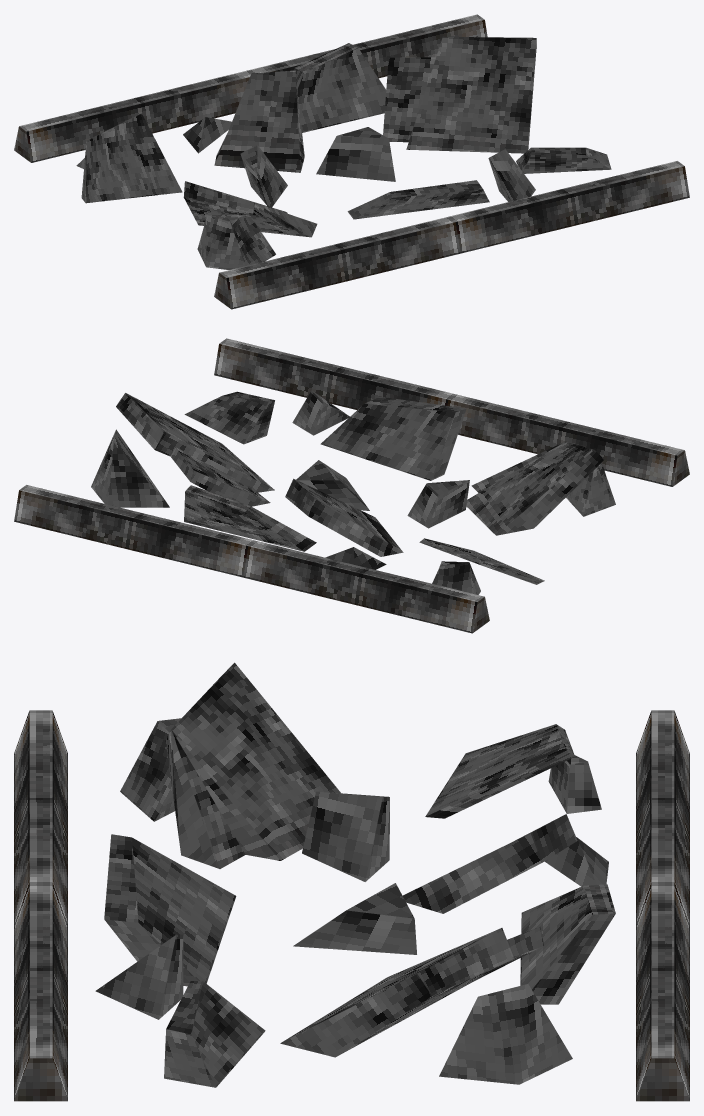
The model's file is bridge_dam.glb.
3 views of the same model, one above another, from view 1: azimuth 30°, elevation 25°; view 2: azimuth 150°, elevation 25°; view 3: azimuth 270°, elevation 25° (orthographic). The views are drawn at different scales.
Visible parts, largest first — view 1: Object01; view 2: Object01; view 3: Object01.
Boxes of the visible parts, x1,y1,x2,y2 form: Object01: [14, 14, 689, 309]; Object01: [14, 338, 689, 633]; Object01: [14, 662, 689, 1101].
Bounding box in the file's own units: 25.63 × 3.77 × 21.03.
Materials: 1 (1 with a texture image).
